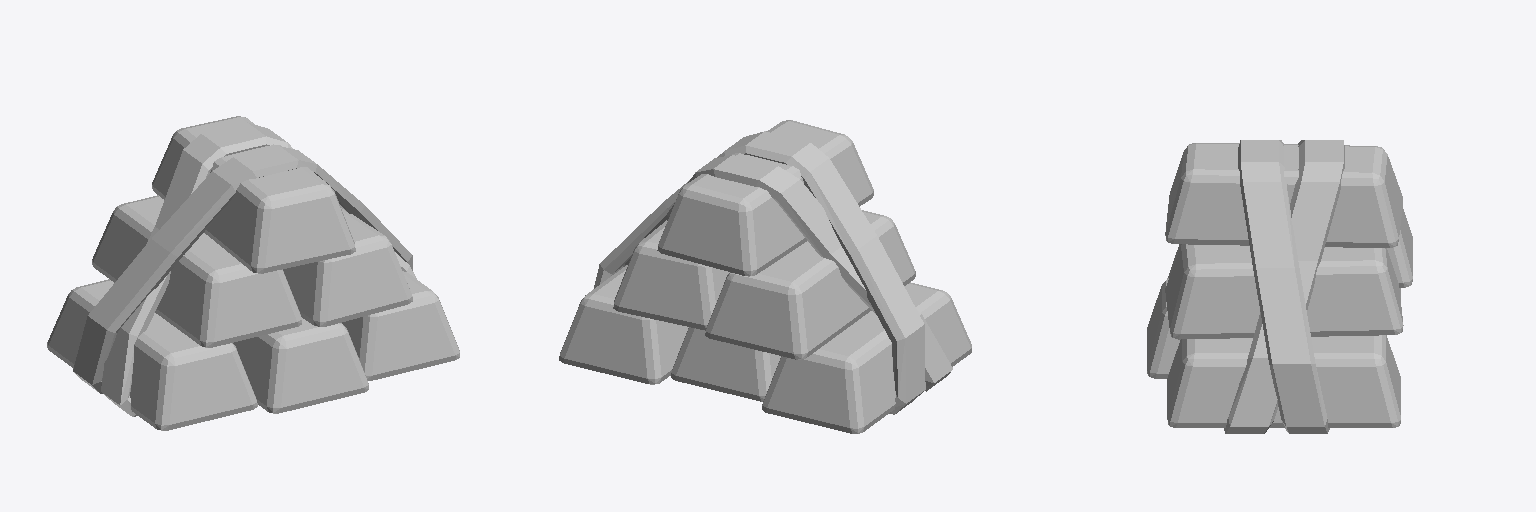
File: Gold_Bars.obj
3 views of the same model, side by side, from view 1: azimuth 30°, elevation 25°; view 2: azimuth 150°, elevation 25°; view 3: azimuth 270°, elevation 25° (orthographic).
Visible parts, largest first — view 1: Gold_Bars; view 2: Gold_Bars; view 3: Gold_Bars.
Boxes of the visible parts, x1,y1,x2,y2 form: Gold_Bars: [47, 116, 459, 430]; Gold_Bars: [559, 120, 971, 433]; Gold_Bars: [1147, 140, 1412, 433].
Bounding box in the file's own units: 1.27 × 0.7897 × 0.9106.